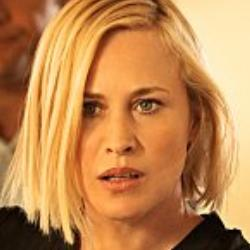face: (6, 1, 241, 234)
